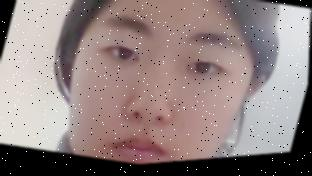eye: (196, 64, 213, 80), (119, 49, 134, 62)
iris: (100, 42, 143, 69), (189, 62, 230, 83)
